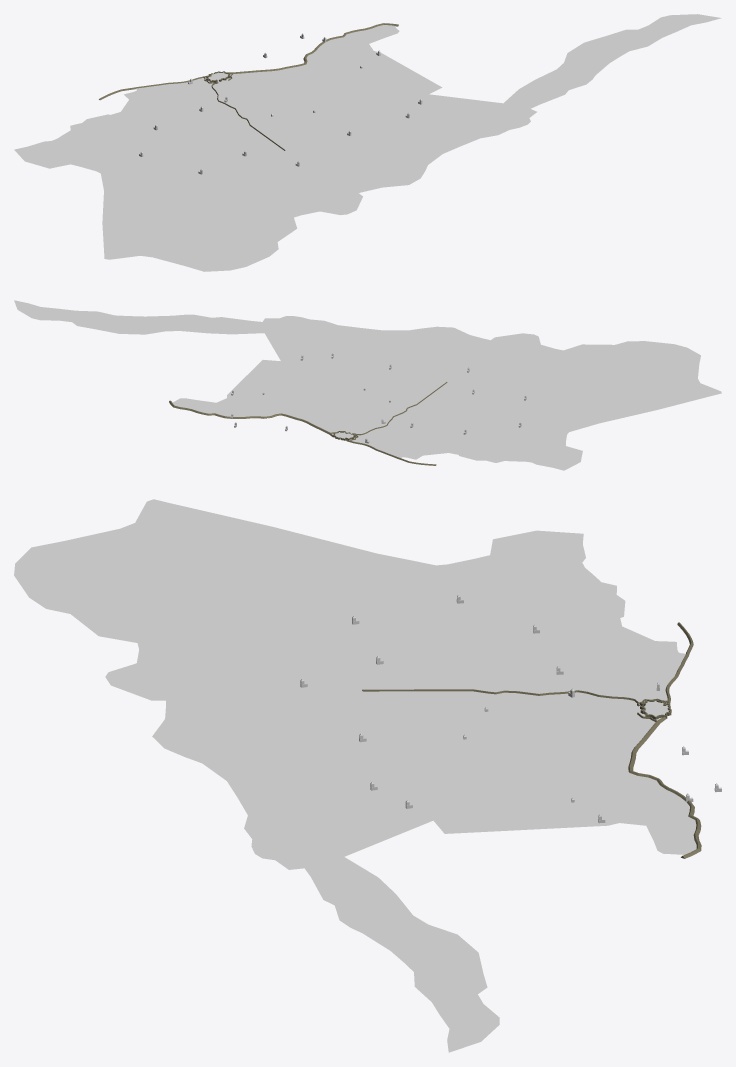
Rendered from assets.glb.
The picture shows the model from 3 angles, top to bottom: view 1: azimuth 30°, elevation 25°; view 2: azimuth 150°, elevation 25°; view 3: azimuth 270°, elevation 25°; orthographic projection. The views are drawn at different scales.
Parts seen in each view (by area): view 1: Water, Dijk; view 2: Water, Dijk; view 3: Water, Dijk.
Boxes of the visible parts, box(x1,y1,x2,y2) form: Water: box(14, 14, 721, 271); Dijk: box(99, 23, 398, 150); Water: box(14, 300, 721, 470); Dijk: box(169, 382, 447, 465); Water: box(14, 499, 696, 1052); Dijk: box(362, 622, 701, 858).
Size of the model in its own units: 796 by 8.08 by 430.
